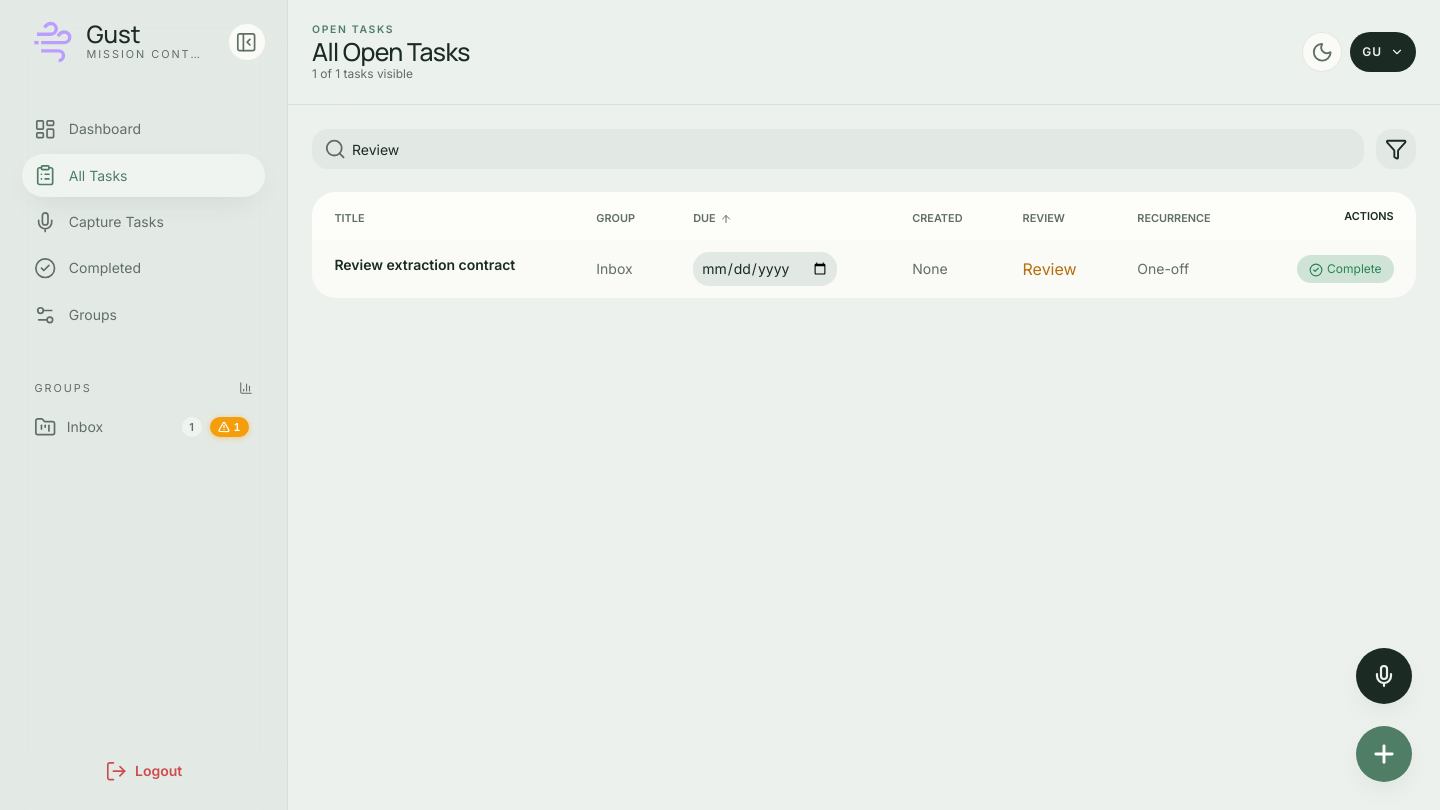
app shell › opens a desktop all-tasks preview modal from table rows without leaving the table route
What coordinates should you click on to do the following:
click the button "Review extraction contract"
I would click on:
 (425, 265)
Its box is [334,255,515,275].
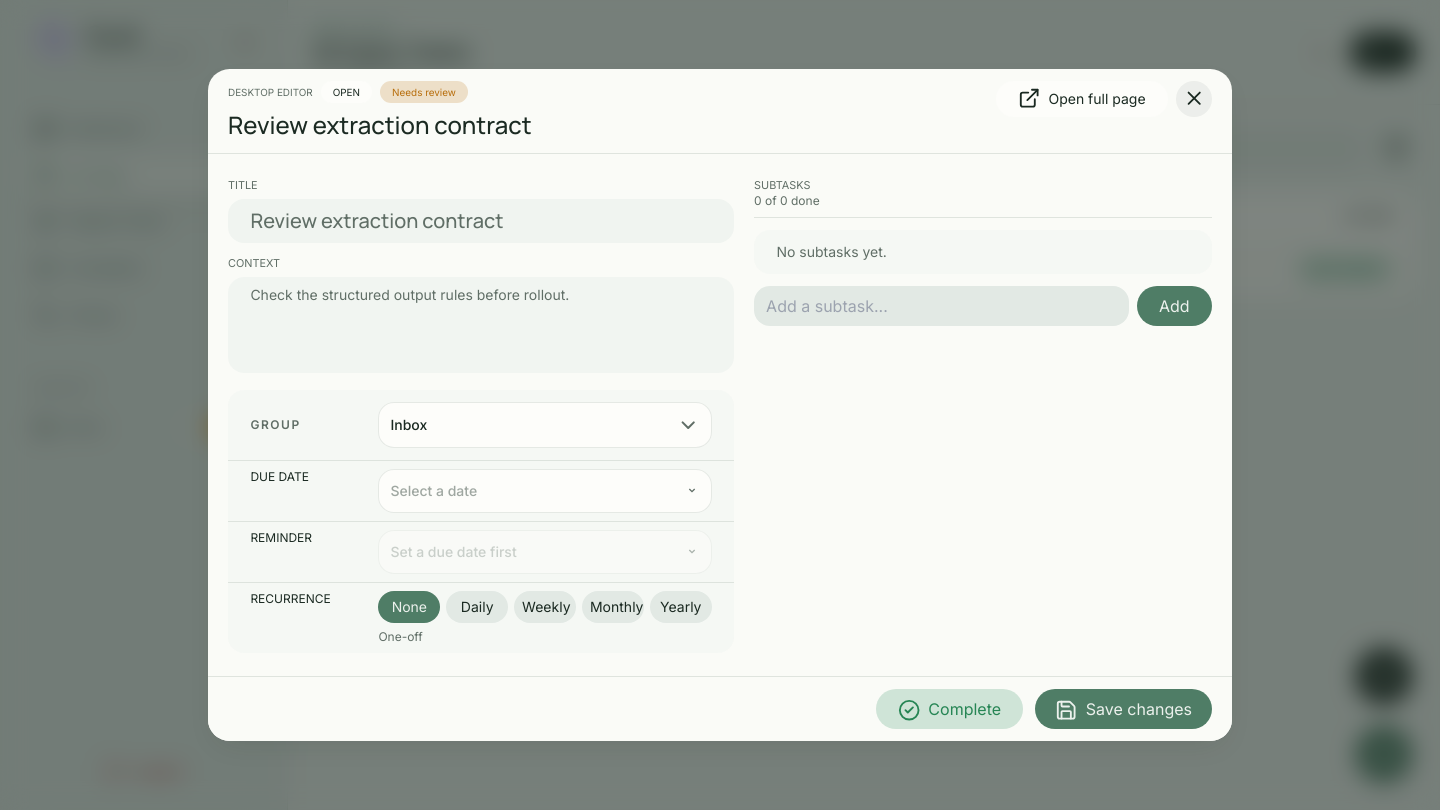
Expected: the dialog "Review extraction contract" is shown
